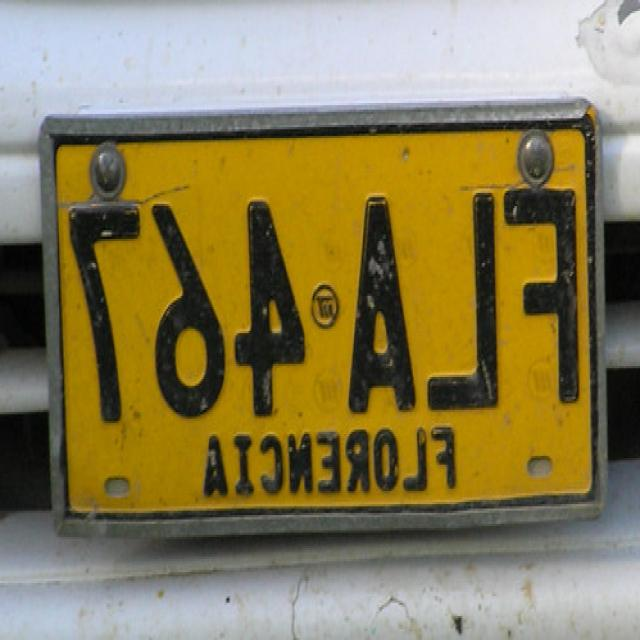placas: (53, 172, 592, 431)
